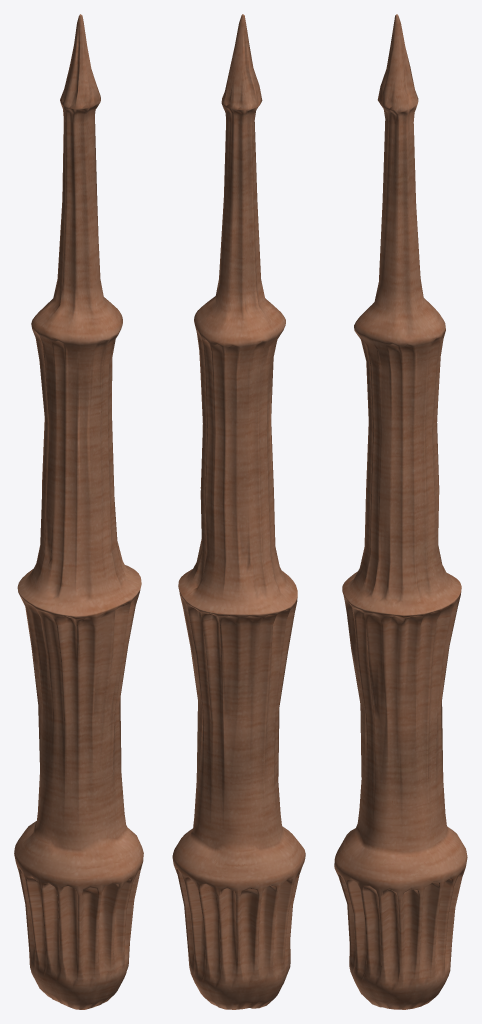
Rendered from Geonosis_Spyre02.fbx.
3 renders of one model, left to right at view 1: azimuth 90°, elevation 25°; view 2: azimuth 150°, elevation 25°; view 3: azimuth 330°, elevation 25°, orthographic.
Visible parts, largest first — view 1: Geonosis_Spyre02; view 2: Geonosis_Spyre02; view 3: Geonosis_Spyre02.
Boxes of the visible parts, x1=… form: Geonosis_Spyre02: x1=14, y1=14, x2=143, y2=1009; Geonosis_Spyre02: x1=172, y1=14, x2=305, y2=1009; Geonosis_Spyre02: x1=334, y1=14, x2=467, y2=1009.
Bounding box in the file's own units: 102 × 853 × 101.
